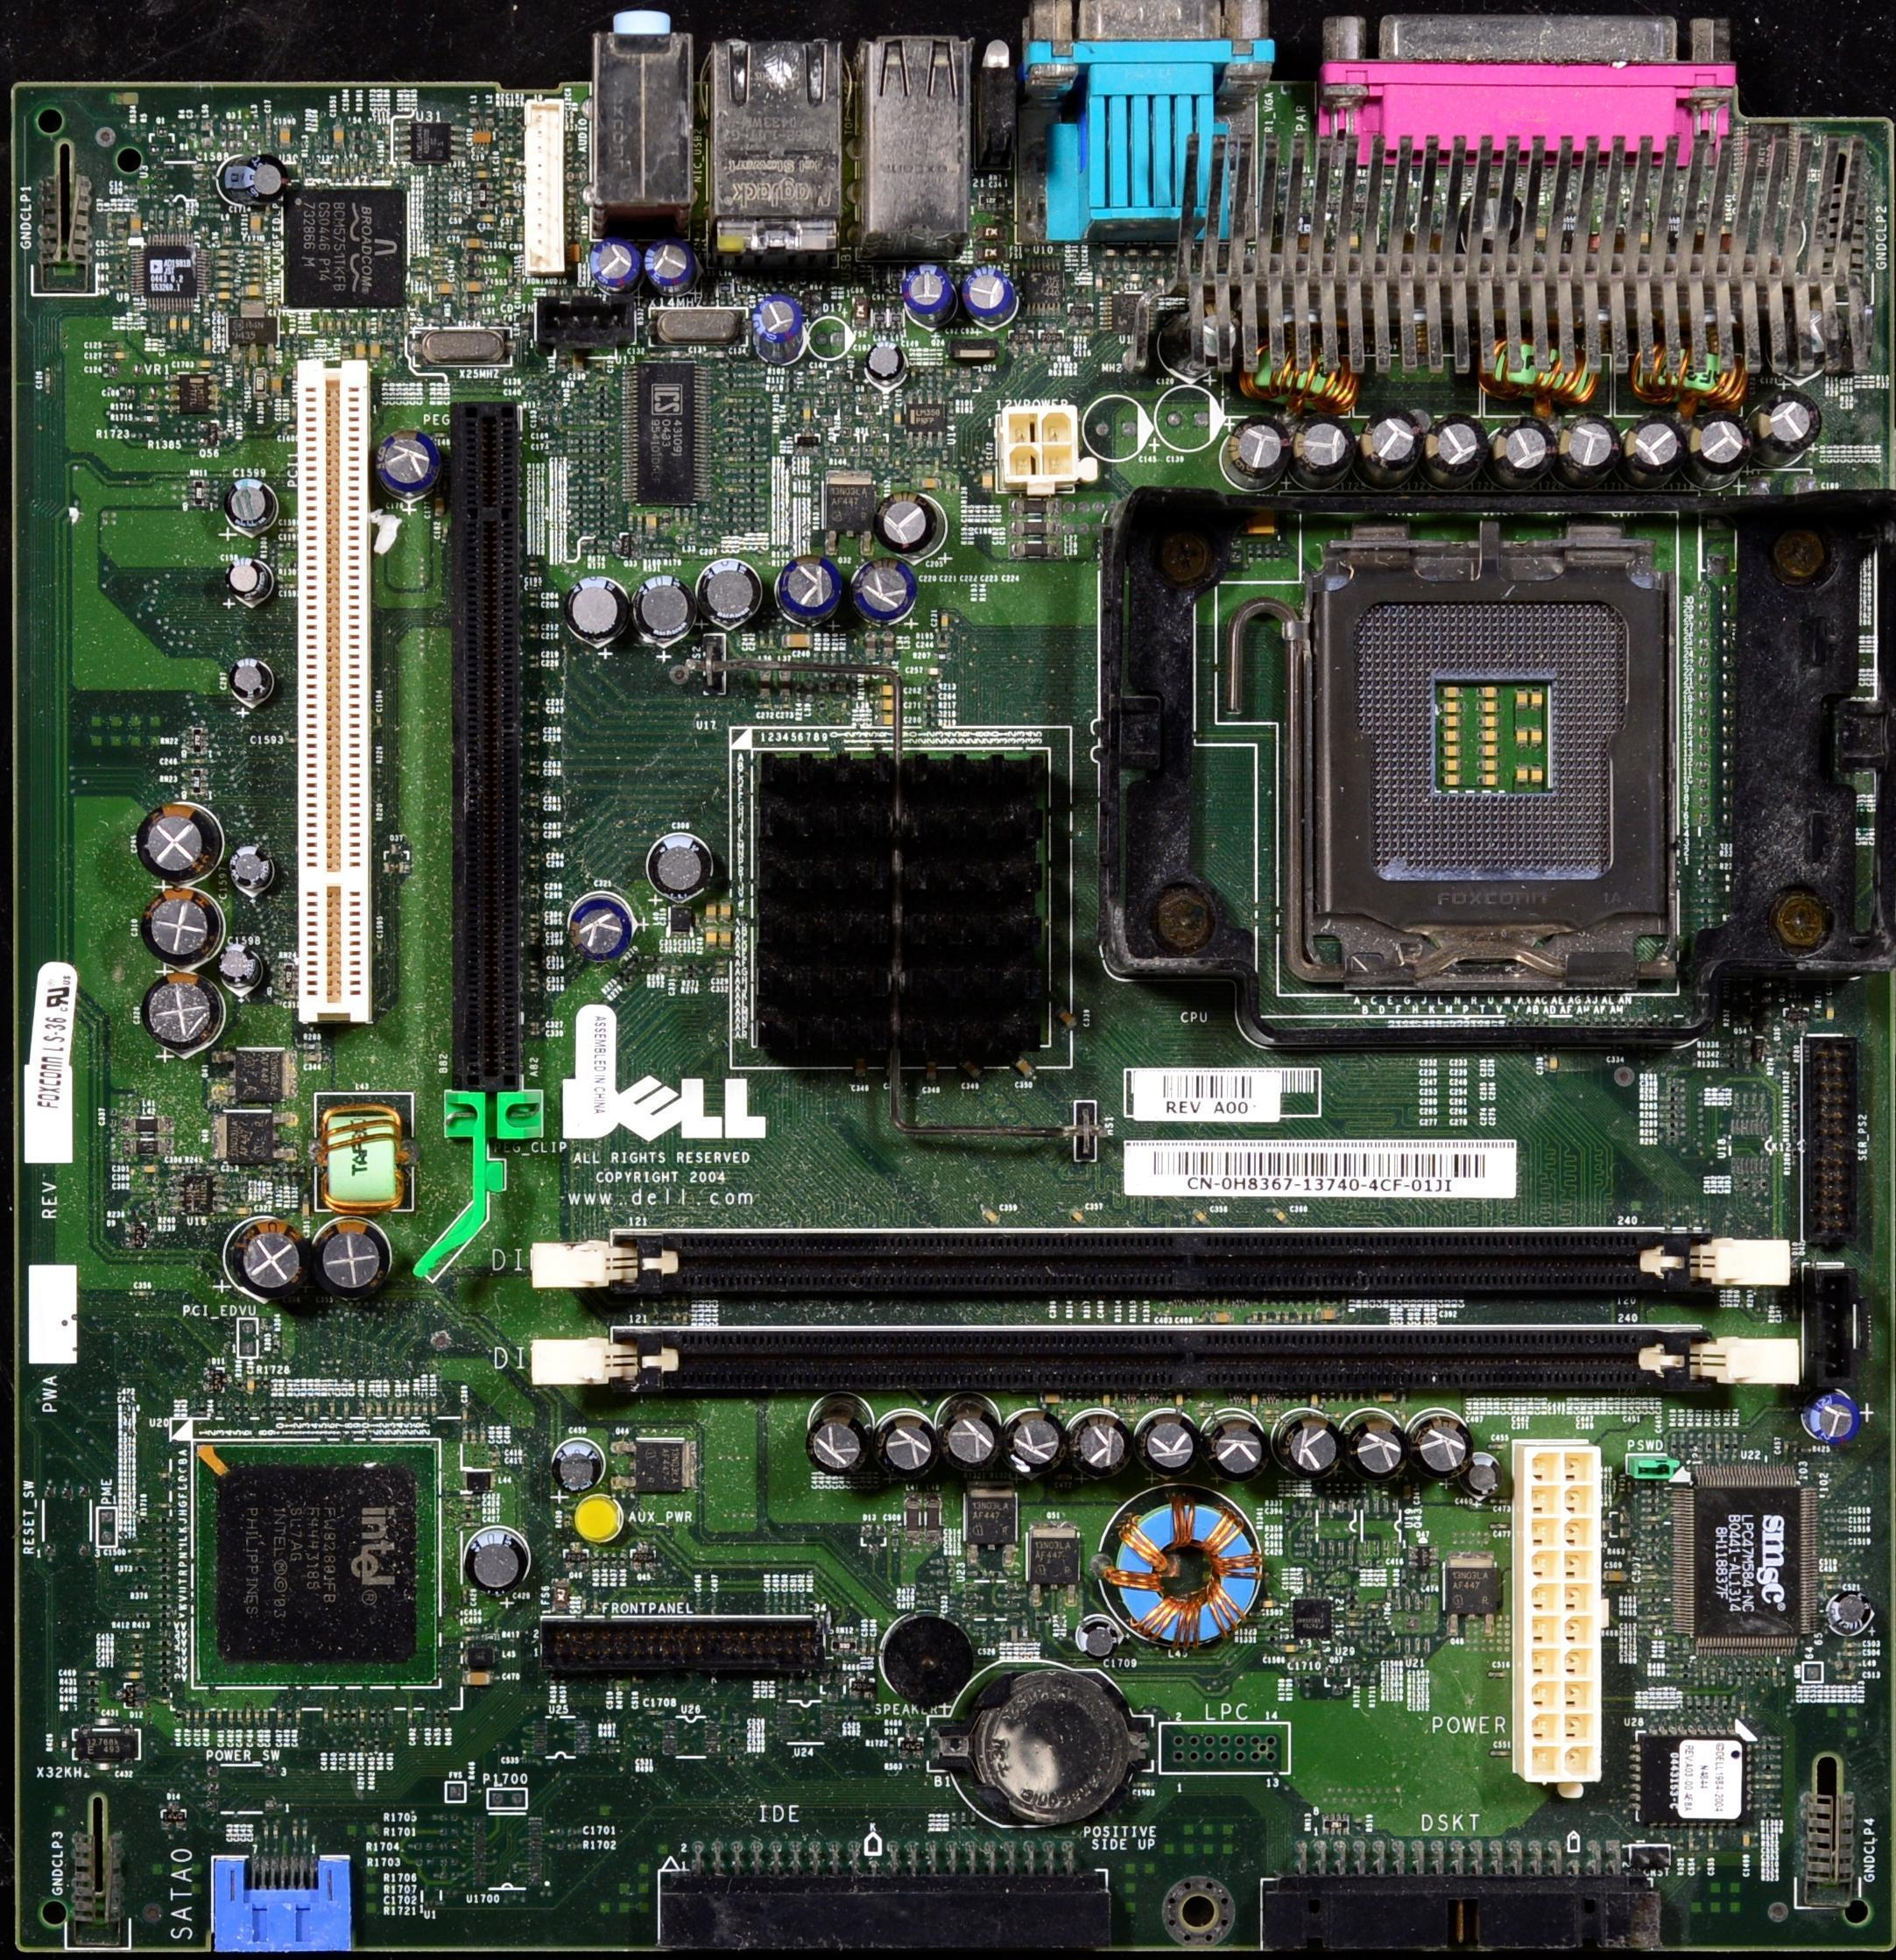Capacitor: (126, 794, 222, 881), (230, 1211, 308, 1296), (137, 967, 217, 1048), (141, 890, 222, 969), (313, 1227, 396, 1292), (563, 568, 631, 644), (377, 420, 442, 499), (1752, 386, 1837, 446), (1625, 406, 1692, 478), (1287, 414, 1363, 476), (462, 1531, 536, 1594), (797, 1410, 871, 1471), (770, 556, 844, 617), (938, 1407, 1005, 1475), (1557, 410, 1623, 479), (631, 572, 691, 646), (1403, 1407, 1464, 1478), (1689, 404, 1750, 475), (1343, 1414, 1413, 1475), (705, 552, 764, 624), (649, 835, 712, 902), (1018, 1407, 1076, 1479), (875, 1412, 938, 1475), (567, 895, 633, 955), (1209, 1417, 1270, 1481), (856, 552, 913, 618), (1140, 1414, 1201, 1477), (1357, 408, 1420, 467), (877, 490, 935, 553), (1427, 412, 1488, 471), (743, 286, 805, 343), (892, 254, 947, 318), (237, 147, 294, 208), (1278, 1421, 1333, 1481), (1236, 412, 1290, 474), (1082, 1407, 1132, 1470), (1802, 1390, 1863, 1442), (959, 267, 1016, 321), (553, 1447, 610, 1498), (1498, 422, 1554, 475), (231, 835, 278, 897), (643, 238, 695, 288), (228, 476, 274, 530), (229, 652, 274, 707), (589, 237, 633, 291), (1073, 1616, 1127, 1658), (220, 554, 268, 598), (217, 947, 263, 987), (1829, 1590, 1872, 1629), (866, 340, 907, 380), (1472, 1452, 1503, 1501), (1703, 1822, 1719, 1853), (270, 373, 287, 399), (247, 212, 265, 235), (128, 213, 143, 240), (459, 281, 484, 296), (980, 1205, 999, 1223), (1192, 1209, 1214, 1225), (332, 124, 346, 149), (430, 283, 460, 294), (464, 1673, 491, 1685), (939, 608, 950, 637), (1687, 1824, 1696, 1855), (1209, 1312, 1233, 1324), (404, 1706, 416, 1730), (1316, 1308, 1338, 1321), (469, 132, 491, 145), (278, 125, 291, 146), (1272, 1207, 1287, 1225), (876, 698, 895, 712), (181, 755, 205, 766), (922, 665, 944, 677), (1486, 1521, 1512, 1532), (136, 1166, 161, 1175), (79, 1688, 100, 1699), (878, 713, 893, 728), (763, 1590, 773, 1612), (261, 1710, 271, 1731), (927, 1061, 938, 1081), (1258, 1599, 1279, 1610), (1838, 1639, 1859, 1650), (272, 1822, 282, 1844), (259, 1823, 272, 1839), (252, 1708, 261, 1732), (125, 1660, 145, 1671), (181, 315, 191, 337), (1275, 1642, 1299, 1651), (529, 955, 546, 968), (171, 313, 180, 334), (370, 340, 380, 361), (357, 342, 368, 361), (556, 1828, 581, 1836), (136, 1175, 159, 1184), (119, 1669, 142, 1678), (800, 1590, 807, 1618), (246, 1375, 256, 1395), (781, 1591, 790, 1613), (461, 238, 483, 247), (523, 622, 545, 631), (215, 292, 235, 301), (473, 169, 490, 180), (1742, 1830, 1751, 1851), (302, 1820, 309, 1845), (526, 1018, 543, 1028), (1073, 1212, 1085, 1226), (79, 1672, 103, 1679), (229, 1705, 237, 1724), (525, 984, 541, 994), (215, 1710, 223, 1731), (145, 1186, 162, 1195), (276, 1709, 284, 1729), (478, 215, 497, 222), (102, 340, 118, 349), (1835, 1651, 1859, 1657), (123, 1632, 144, 1639), (525, 927, 542, 936), (375, 1400, 383, 1419), (342, 1402, 350, 1421), (880, 685, 892, 696), (313, 1401, 321, 1419), (101, 365, 111, 378), (429, 1402, 439, 1416), (339, 163, 346, 182), (294, 1710, 301, 1729), (773, 1593, 779, 1615), (194, 1710, 201, 1727), (524, 659, 540, 667), (524, 731, 540, 739), (349, 162, 356, 180), (108, 353, 129, 359), (523, 593, 544, 599), (525, 699, 541, 707), (215, 272, 232, 279), (803, 405, 810, 422), (525, 706, 538, 716), (525, 739, 539, 747), (524, 633, 540, 640), (528, 912, 542, 920), (525, 1027, 540, 1034), (293, 1822, 299, 1843), (462, 1408, 469, 1423), (244, 1710, 251, 1725), (215, 281, 229, 288), (525, 601, 539, 608), (529, 882, 539, 892), (524, 653, 539, 659), (791, 1590, 795, 1611), (526, 978, 539, 984), (204, 1710, 210, 1724), (526, 795, 539, 801), (461, 1505, 475, 1510), (413, 1404, 418, 1419), (461, 1498, 476, 1502), (1307, 1572, 1311, 1587), (526, 760, 538, 765), (184, 1712, 188, 1724)
IC: (218, 1466, 419, 1660), (1693, 1483, 1801, 1632), (289, 192, 411, 312), (638, 362, 694, 506), (1014, 1528, 1088, 1588), (962, 1493, 1021, 1550), (1448, 1559, 1508, 1613), (633, 1436, 681, 1490), (236, 1049, 282, 1102), (826, 481, 875, 529), (145, 252, 193, 295), (229, 1117, 271, 1161), (411, 121, 450, 161), (226, 316, 271, 349), (1020, 269, 1064, 303), (178, 373, 209, 412), (904, 401, 944, 431), (1759, 1811, 1775, 1820)
Resistor: (1013, 521, 1052, 535), (1014, 544, 1049, 558), (629, 1550, 657, 1567), (1015, 500, 1047, 514), (793, 434, 819, 450), (366, 1706, 380, 1732), (563, 1551, 589, 1564), (899, 1738, 925, 1752), (1679, 1429, 1688, 1461), (1036, 333, 1064, 343), (1069, 305, 1093, 317), (191, 770, 204, 792), (284, 966, 293, 994), (833, 1640, 861, 1650), (193, 483, 206, 504), (979, 194, 1006, 204), (79, 1695, 101, 1706), (432, 1706, 443, 1727), (555, 1840, 578, 1851), (1324, 1821, 1350, 1830), (1421, 1637, 1434, 1655), (159, 208, 167, 235), (1743, 1661, 1752, 1685), (924, 682, 937, 698), (280, 1166, 291, 1185), (267, 1398, 278, 1417), (1116, 270, 1126, 289), (599, 1747, 617, 1759), (80, 1703, 100, 1712), (282, 1399, 293, 1418), (376, 1709, 386, 1727), (272, 1333, 281, 1355), (1730, 1435, 1739, 1457), (1684, 1695, 1693, 1717), (193, 730, 201, 751), (1689, 1430, 1696, 1457), (1761, 1662, 1771, 1682), (427, 205, 447, 215), (1103, 272, 1113, 292), (154, 1651, 172, 1661), (156, 1683, 172, 1695), (285, 1707, 293, 1730), (1693, 1700, 1702, 1718), (593, 446, 611, 455), (152, 1535, 173, 1544), (349, 130, 366, 141), (1721, 1700, 1731, 1717), (319, 162, 331, 176), (349, 1708, 358, 1727), (373, 1734, 382, 1753), (569, 437, 589, 446), (154, 1666, 170, 1676), (640, 1744, 656, 1754), (1011, 337, 1035, 344), (1702, 1695, 1710, 1713), (144, 401, 157, 413), (598, 1736, 615, 1745), (1722, 1432, 1729, 1455), (461, 296, 481, 304), (677, 971, 699, 978), (620, 976, 638, 984), (461, 1510, 478, 1519), (340, 1708, 349, 1725), (332, 1709, 341, 1726), (681, 962, 697, 972), (260, 1167, 270, 1182), (112, 263, 128, 272), (726, 1734, 740, 1745), (414, 1858, 425, 1872), (154, 1548, 171, 1556), (1403, 1636, 1411, 1654), (1753, 1659, 1759, 1682), (1779, 1666, 1787, 1684), (1758, 1761, 1776, 1769), (462, 312, 480, 320), (408, 1843, 423, 1852), (153, 1593, 173, 1600), (926, 691, 937, 703), (614, 968, 627, 978), (277, 1402, 285, 1418), (1283, 1507, 1292, 1523), (154, 1564, 170, 1573), (157, 1604, 173, 1612), (132, 1611, 150, 1618), (593, 382, 609, 391), (158, 1516, 172, 1526), (1394, 1636, 1401, 1655), (432, 1811, 446, 1821), (1761, 1744, 1778, 1752), (427, 175, 444, 183), (610, 1550, 617, 1566), (434, 1873, 450, 1881), (923, 712, 939, 720), (1147, 271, 1154, 289), (250, 123, 261, 133), (1673, 1429, 1677, 1456), (81, 1681, 101, 1687), (1677, 1661, 1694, 1668), (443, 1710, 450, 1727), (1353, 1669, 1362, 1682), (154, 1557, 173, 1563), (290, 1167, 297, 1183), (155, 1584, 171, 1591), (1680, 1673, 1695, 1680), (595, 412, 609, 419), (113, 274, 125, 283), (232, 1402, 239, 1417), (430, 195, 445, 202), (359, 1400, 367, 1414), (155, 1528, 172, 1534), (515, 114, 524, 125), (497, 133, 504, 147), (1649, 1507, 1665, 1513), (1641, 1524, 1660, 1529), (155, 1677, 171, 1683), (924, 704, 940, 710), (604, 1552, 610, 1569), (373, 164, 382, 174), (430, 222, 443, 229), (596, 438, 609, 445), (594, 1553, 600, 1568), (571, 448, 586, 454), (1737, 1660, 1740, 1685), (243, 1402, 250, 1416), (1670, 1642, 1677, 1654), (271, 1166, 277, 1181), (264, 1376, 270, 1389), (1644, 1597, 1661, 1602), (146, 1209, 159, 1216), (618, 1553, 624, 1565), (439, 1830, 451, 1836), (430, 186, 442, 192), (362, 1739, 367, 1753), (139, 434, 153, 440), (923, 722, 940, 726), (430, 230, 441, 236), (516, 132, 523, 142), (137, 1584, 146, 1591), (303, 166, 310, 176), (217, 1404, 222, 1416), (1707, 1435, 1710, 1453), (432, 240, 444, 245), (159, 1613, 170, 1618), (597, 403, 608, 408), (236, 1380, 242, 1389), (430, 215, 442, 219), (596, 395, 606, 400), (147, 1201, 159, 1205), (324, 143, 328, 154), (1415, 1637, 1419, 1651), (507, 132, 511, 145), (161, 1640, 168, 1646), (499, 115, 503, 124), (136, 1568, 145, 1571)
